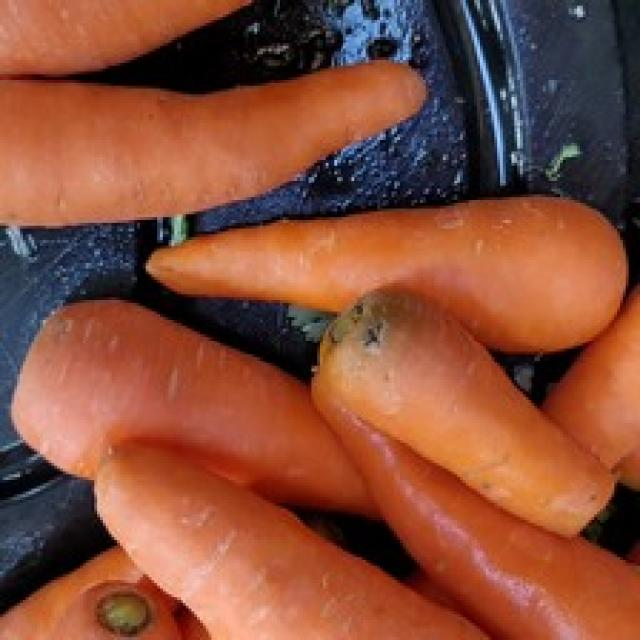Fresh_Carrot: (26, 305, 381, 504), (111, 464, 464, 640), (157, 199, 604, 331), (331, 325, 601, 538), (12, 66, 412, 200), (0, 558, 155, 640)
